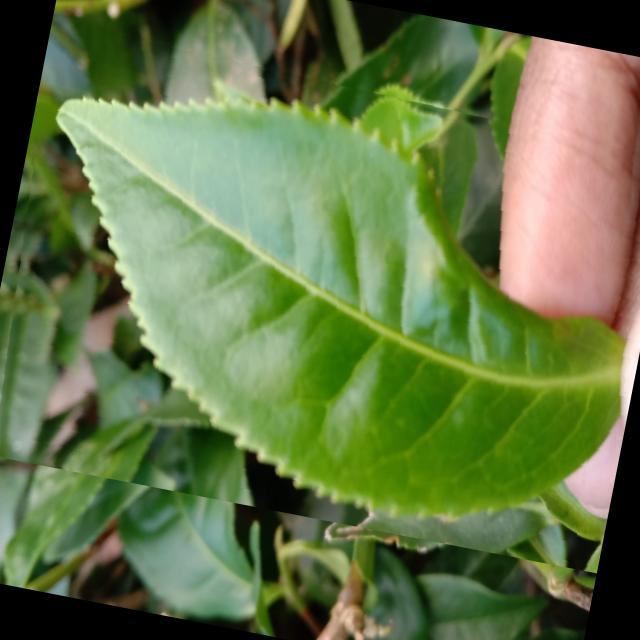Category C 4-7 days: (0, 19, 640, 572)
